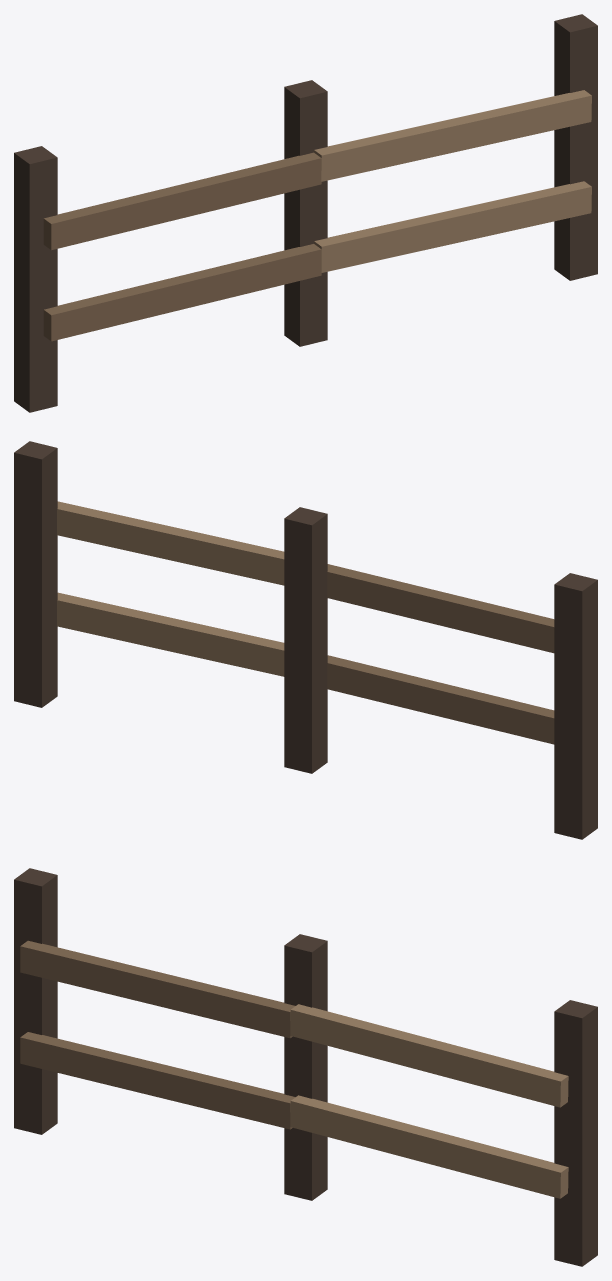
File: Turner_WoodBoundaryFence.fbx
3 views of the same model, one above another, from view 1: azimuth 30°, elevation 25°; view 2: azimuth 150°, elevation 25°; view 3: azimuth 330°, elevation 25° (orthographic).
Visible parts, largest first — view 1: Turner_WoodBoundaryFence; view 2: Turner_WoodBoundaryFence; view 3: Turner_WoodBoundaryFence.
Boxes of the visible parts, x1,y1,x2,y2 form: Turner_WoodBoundaryFence: [14, 14, 597, 412]; Turner_WoodBoundaryFence: [14, 441, 597, 839]; Turner_WoodBoundaryFence: [14, 868, 597, 1266].
Size of the model in its own units: 2.61 by 1.09 by 0.186.
